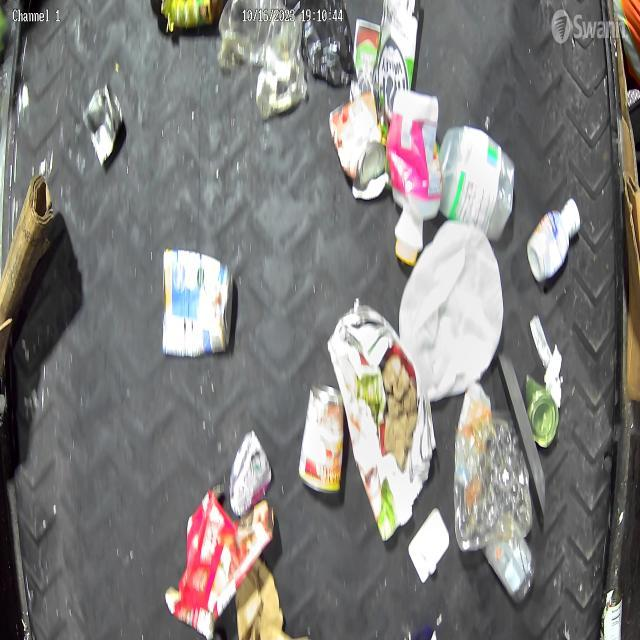can: (156, 242, 236, 361), (328, 89, 388, 201), (297, 379, 346, 497), (82, 80, 125, 169), (520, 374, 559, 448), (598, 584, 626, 640)
milk_jug: (396, 219, 504, 403), (436, 123, 518, 242)
plastic_bottle: (486, 527, 537, 604)
